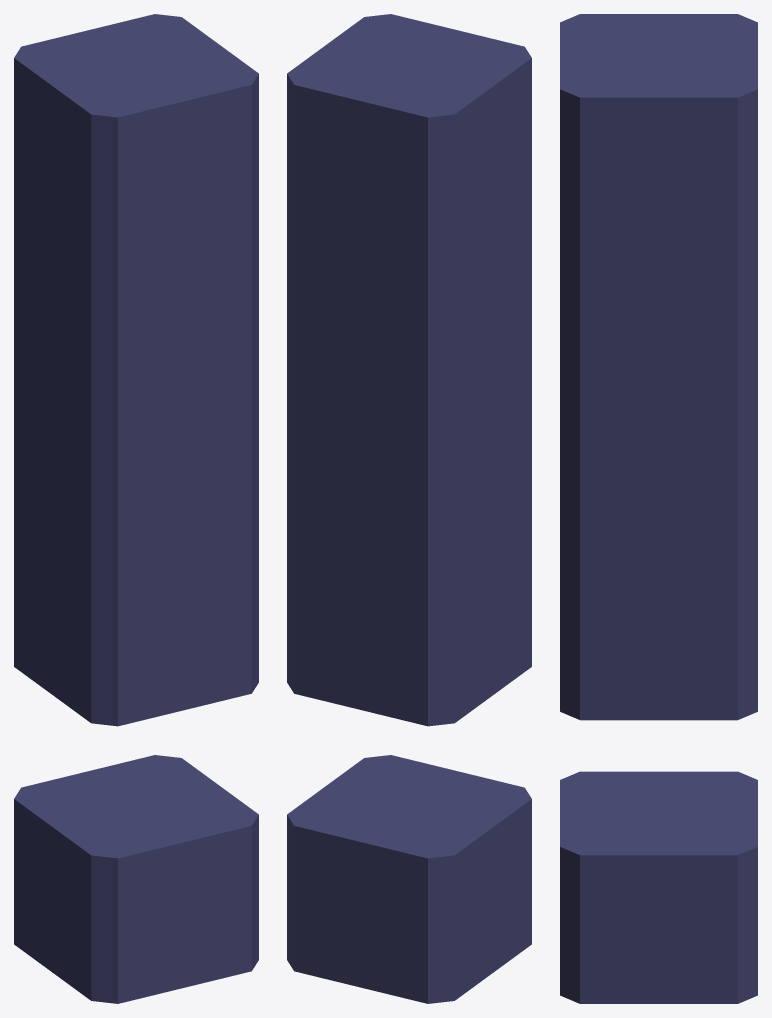
The model's file is Warning-2.fbx.
3 views of the same model, side by side, from view 1: azimuth 30°, elevation 25°; view 2: azimuth 150°, elevation 25°; view 3: azimuth 270°, elevation 25° (orthographic). The views are drawn at different scales.
Visible parts, largest first — view 1: Cube.008; view 2: Cube.008; view 3: Cube.008.
Boxes of the visible parts, bbox=[...] form: Cube.008: bbox=[14, 14, 258, 1003]; Cube.008: bbox=[287, 14, 531, 1003]; Cube.008: bbox=[560, 14, 757, 1003].
Size of the model in its own units: 8.65 by 43.7 by 8.65.
